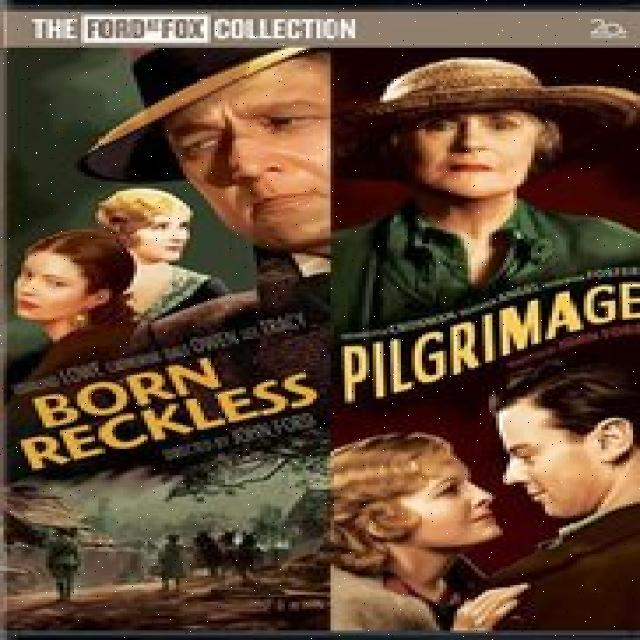movie-judul: (12, 282, 640, 472)
picture: (7, 47, 326, 344), (339, 368, 640, 637), (334, 48, 640, 281), (7, 477, 335, 640)
